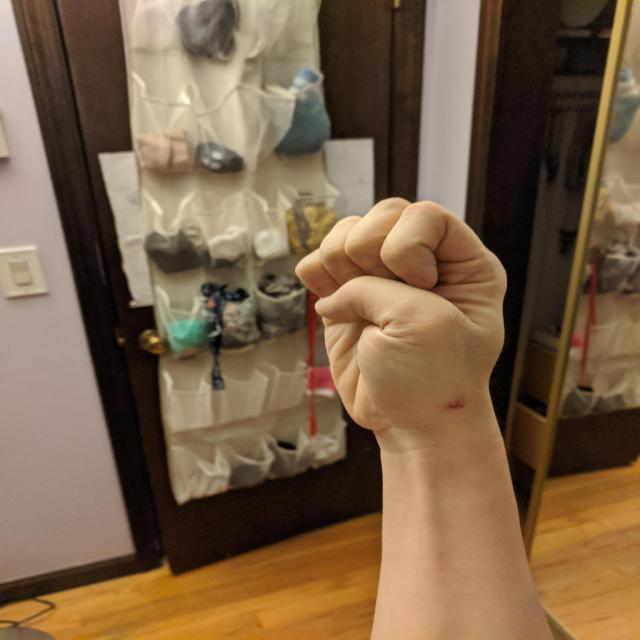E: (287, 194, 515, 439)
